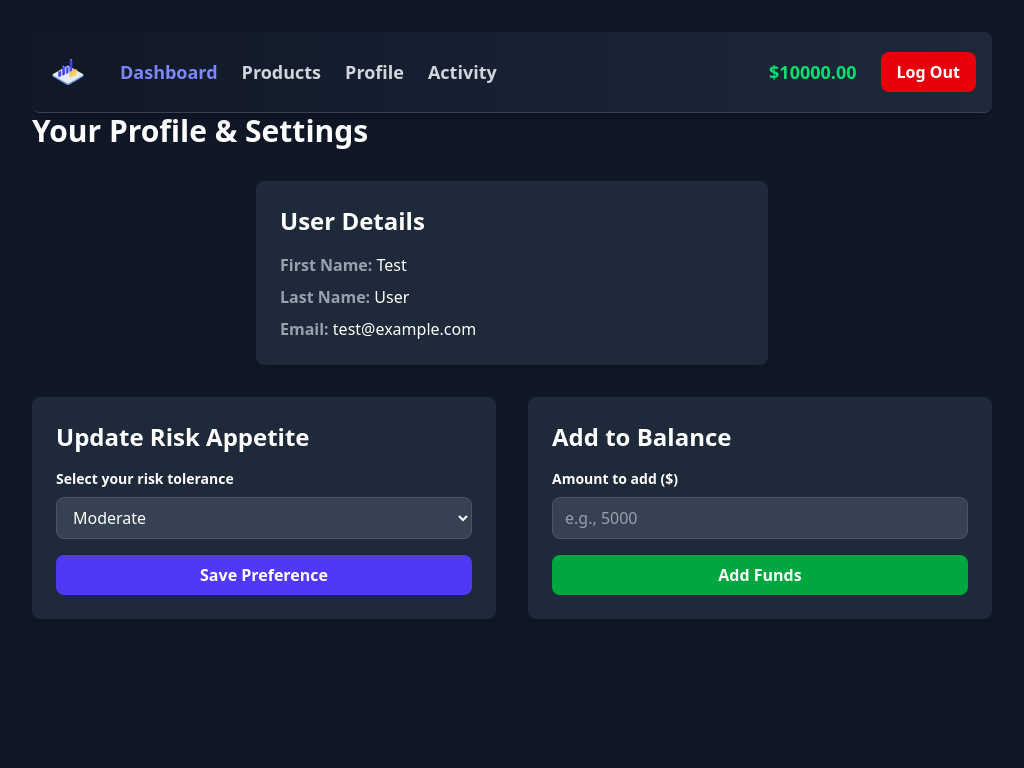
Test: ProfilePage › should allow a user to add funds to their balance
Type "500" into the number field labelled "Amount to add ($)" at (760, 518), box top-left (552, 497), bottom-right (968, 539)
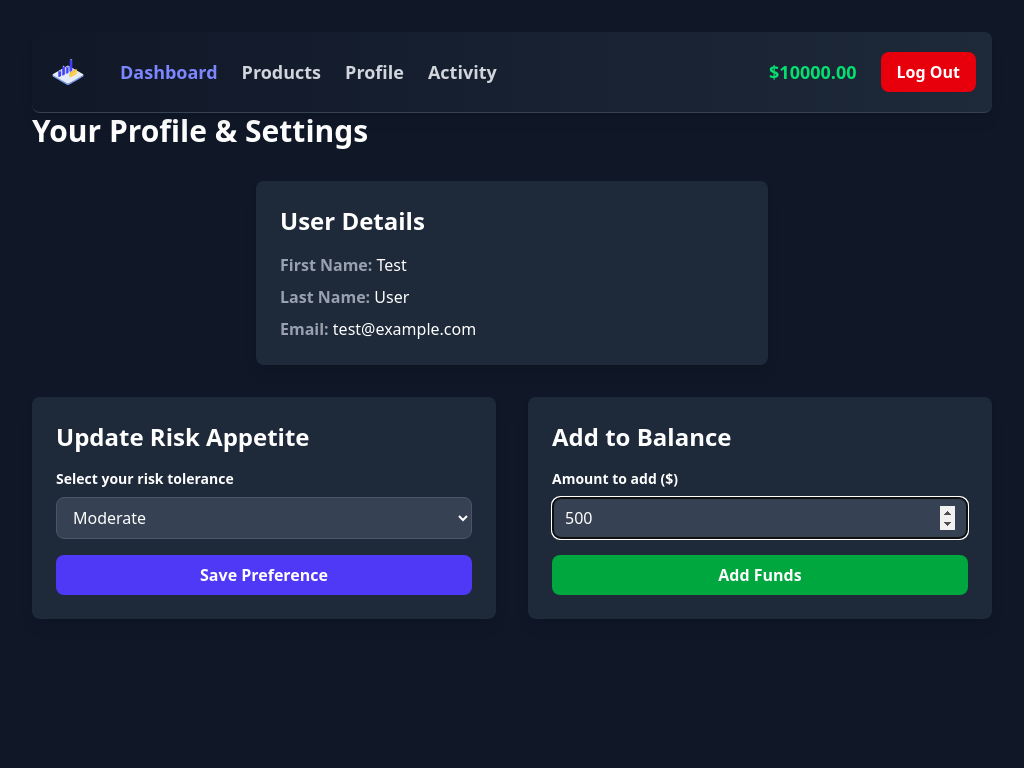
Click the button "Add Funds" at (760, 575), box top-left (552, 555), bottom-right (968, 595)
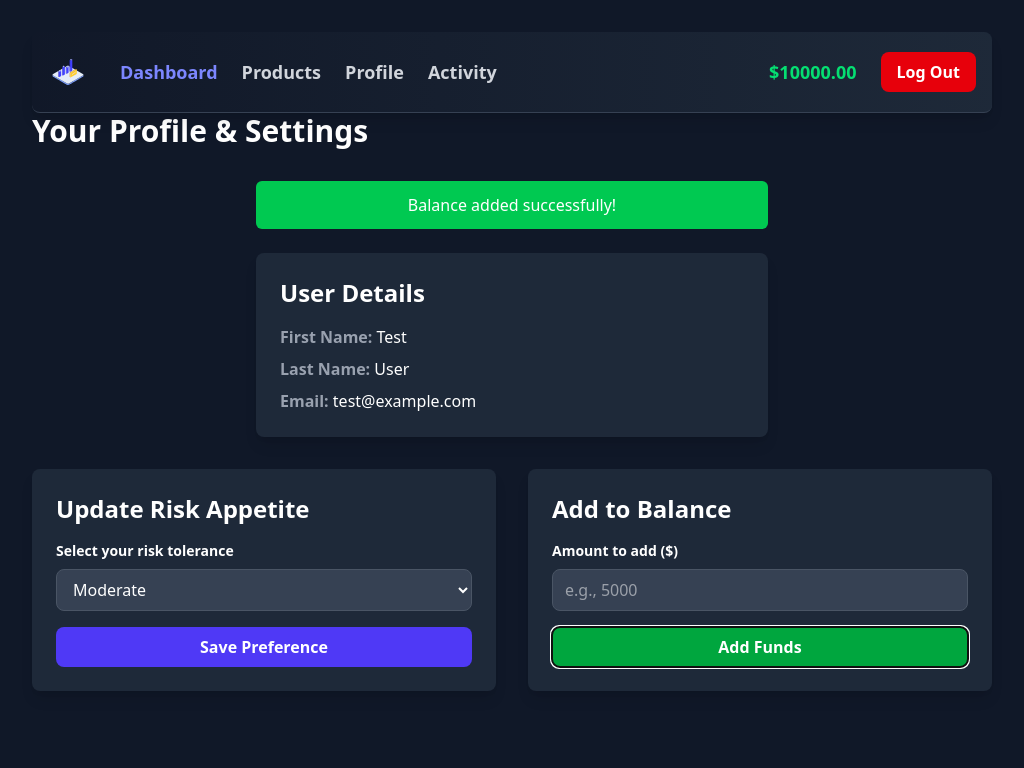
Check: the text "Balance added successfully!" is shown, box top-left (256, 181), bottom-right (768, 229)
